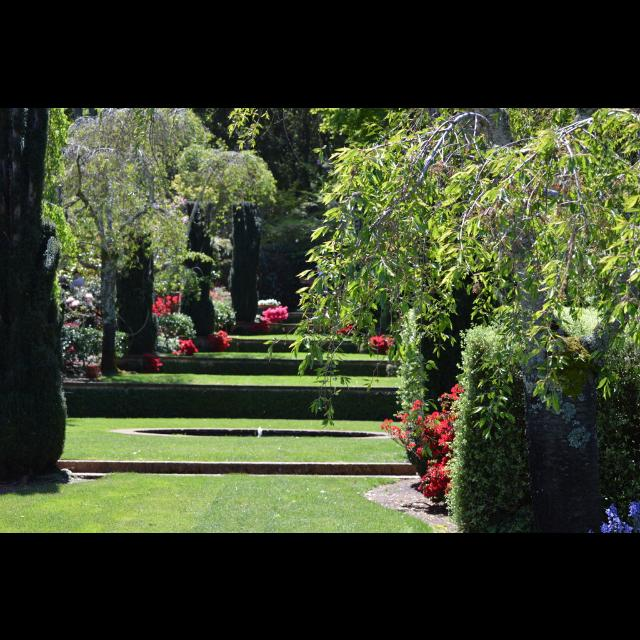Flower: (378, 381, 462, 502), (248, 296, 288, 334), (152, 290, 188, 318), (366, 333, 394, 355), (210, 330, 236, 352), (174, 338, 200, 356), (340, 322, 360, 338)
